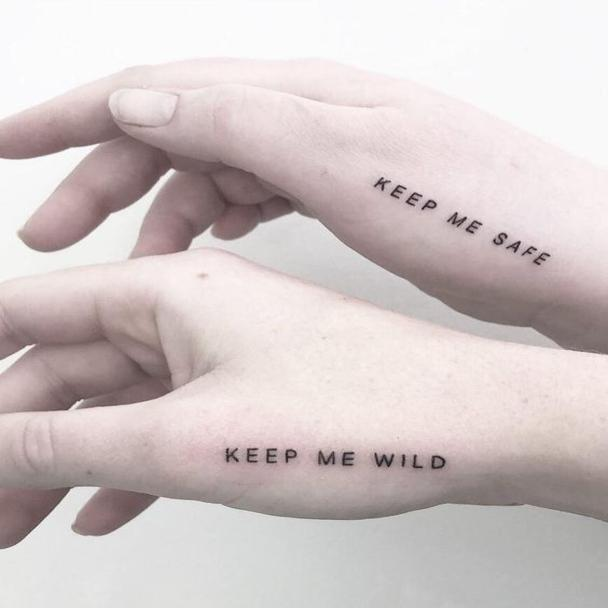tattoos: (372, 176, 551, 268), (224, 444, 447, 472)
